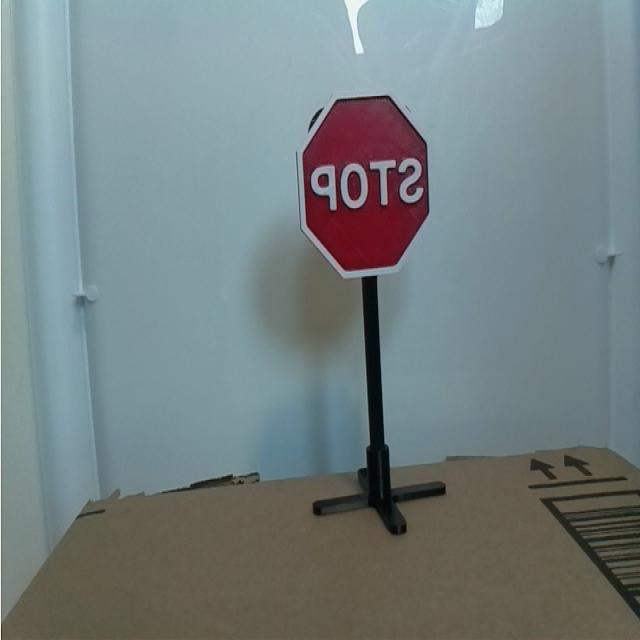sign_stop: (277, 56, 443, 295)
